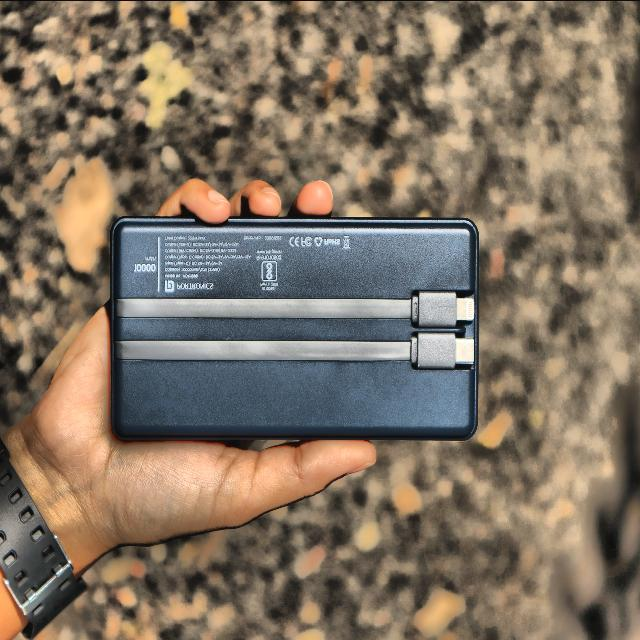Power bank: (109, 216, 479, 439)
